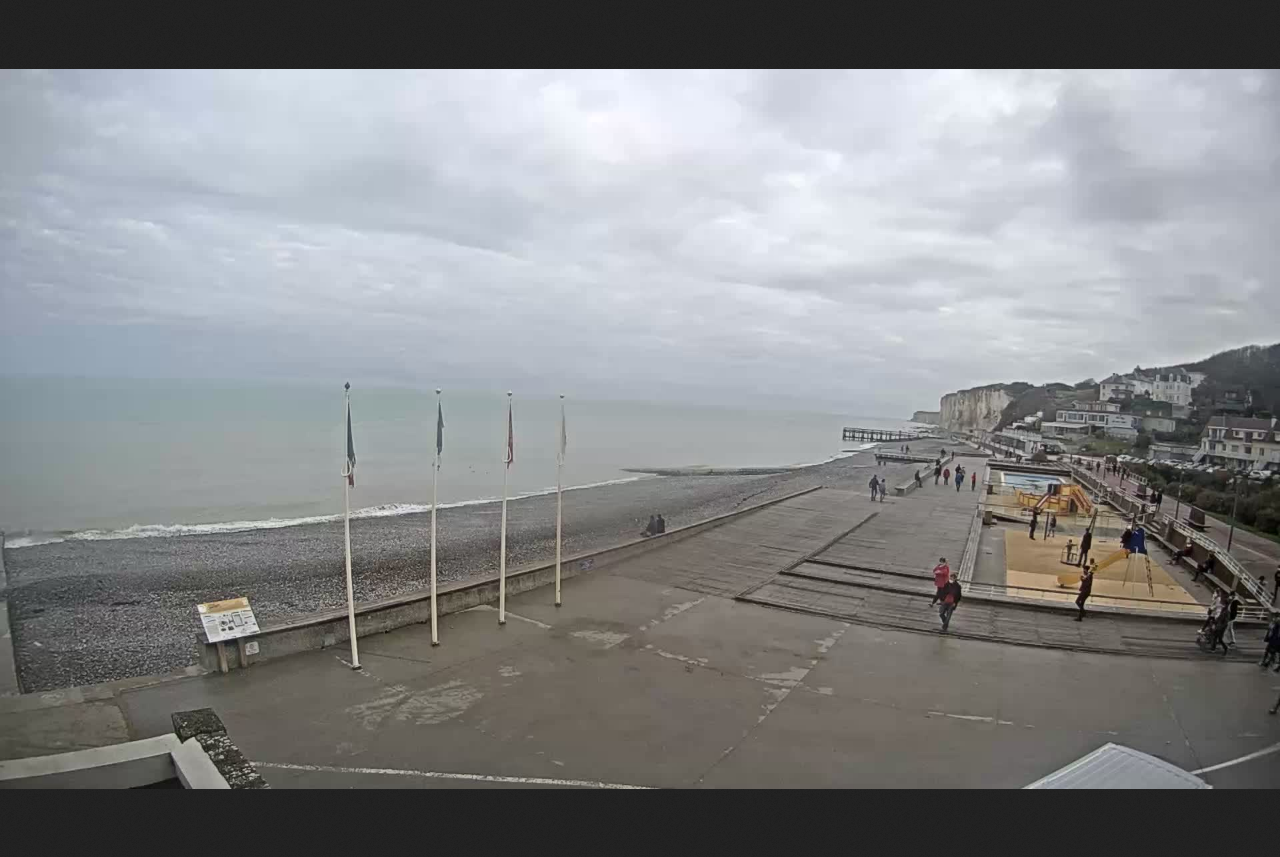no: (340, 395, 355, 490), (429, 397, 445, 462), (554, 398, 568, 466), (504, 395, 513, 465)
